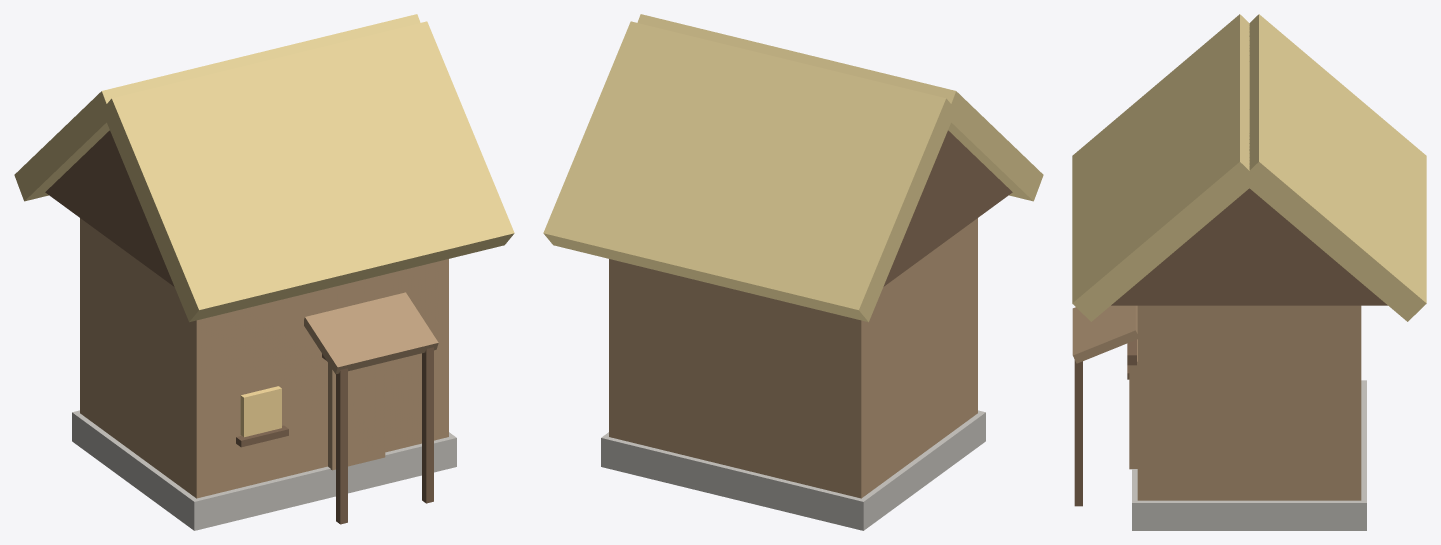
File: cottage_b.glb
3 views of the same model, side by side, from view 1: azimuth 30°, elevation 25°; view 2: azimuth 150°, elevation 25°; view 3: azimuth 270°, elevation 25° (orthographic). The views are drawn at different scales.
Visible parts, largest first — view 1: Cube.002, Cube.001, Cube, Cube.003, hastial, Cube.008, Cube.004, Cube.010, Cube.009, Cube.006; view 2: Cube.003, Cube.001, Cube, Cube.002, hastial; view 3: Cube.001, Cube.002, Cube.003, hastial.001, Cube, Cube.008, Cube.010, Cube.004.
Part boxes in pixels (x1,y1,x2,y2): Cube.002: (102, 21, 514, 322); Cube.001: (80, 218, 448, 498); Cube: (72, 410, 456, 530); Cube.003: (14, 14, 420, 201); hastial: (45, 130, 174, 286); Cube.008: (304, 292, 438, 374); Cube.004: (328, 362, 385, 470); Cube.010: (422, 347, 433, 503); Cube.009: (336, 368, 347, 524); Cube.006: (240, 386, 281, 437); Cube.003: (543, 21, 955, 322); Cube.001: (609, 218, 977, 498); Cube: (601, 410, 985, 530); Cube.002: (637, 14, 1043, 201); hastial: (883, 130, 1012, 286); Cube.001: (1137, 305, 1361, 500); Cube.002: (1072, 14, 1258, 321); Cube.003: (1241, 14, 1426, 321); hastial.001: (1111, 188, 1387, 305); Cube: (1132, 380, 1366, 530); Cube.008: (1072, 305, 1137, 363); Cube.010: (1074, 360, 1082, 506); Cube.004: (1129, 339, 1137, 469).
Bounding box in the file's own units: 2.5 × 3.01 × 2.54.
